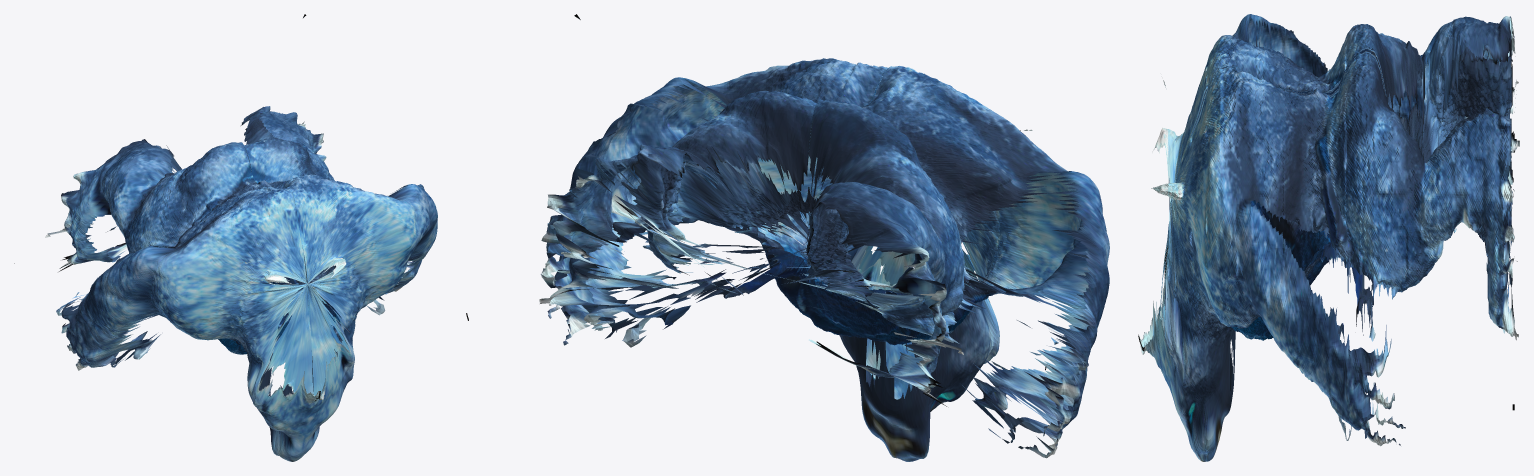
3 views of the same model, side by side, from view 1: azimuth 30°, elevation 25°; view 2: azimuth 150°, elevation 25°; view 3: azimuth 270°, elevation 25° (orthographic). The views are drawn at different scales.
Parts seen in each view (by area): view 1: geometry_0; view 2: geometry_0; view 3: geometry_0.
Part boxes in pixels (x1,y1,x2,y2): geometry_0: (14, 14, 437, 461); geometry_0: (466, 14, 1109, 461); geometry_0: (1138, 14, 1519, 461).
Size of the model in its own units: 1.96 by 1.72 by 1.16.
1 material, 1 textured.
